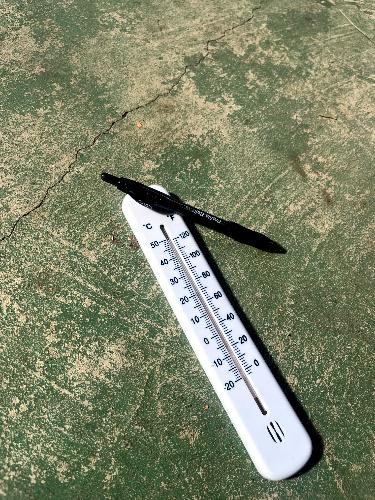thermo: (122, 170, 320, 482)
